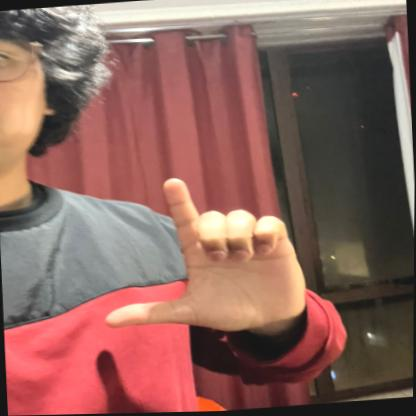L: (87, 164, 318, 348)
